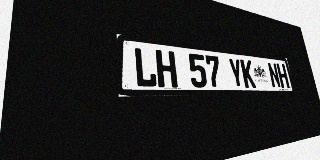5: (188, 53, 208, 88)
7: (204, 55, 223, 88)
H: (155, 49, 178, 87), (276, 63, 290, 88)
K: (240, 59, 256, 88)
L: (133, 47, 158, 87)
N: (267, 62, 281, 88)
Y: (228, 58, 245, 88)
